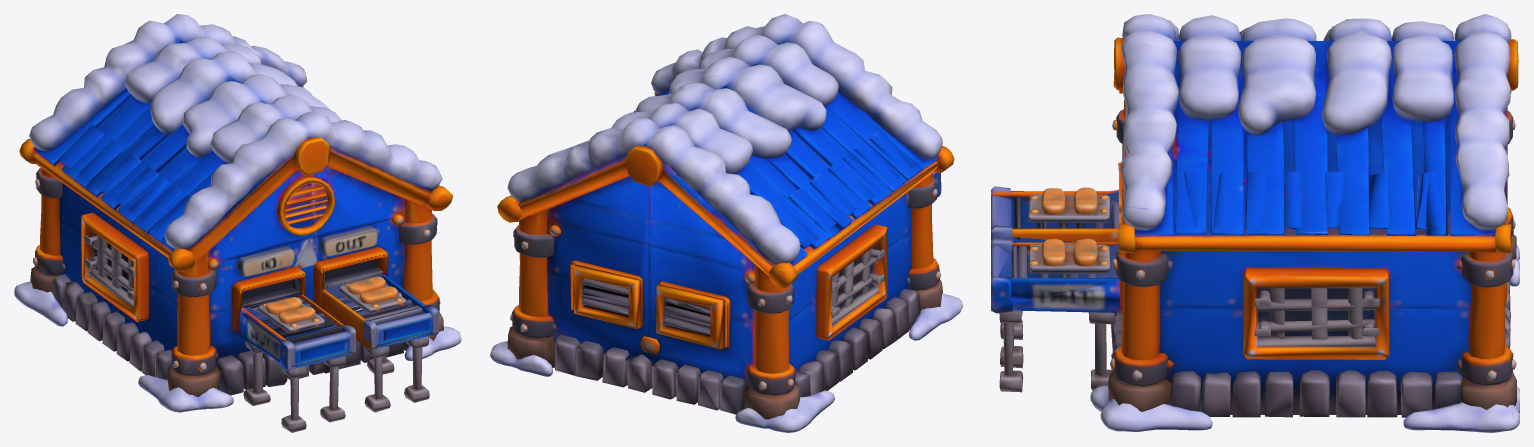
Rendered from food.glb.
3 views of the same model, side by side, from view 1: azimuth 30°, elevation 25°; view 2: azimuth 150°, elevation 25°; view 3: azimuth 270°, elevation 25° (orthographic). The views are drawn at different scales.
Visible parts, largest first — view 1: geometry_0; view 2: geometry_0; view 3: geometry_0.
Boxes of the visible parts, x1,y1,x2,y2 form: geometry_0: (14, 14, 461, 432); geometry_0: (490, 14, 962, 432); geometry_0: (991, 14, 1519, 432).
Size of the model in its own units: 0.8127 by 0.6807 by 1.
1 material, 1 textured.
